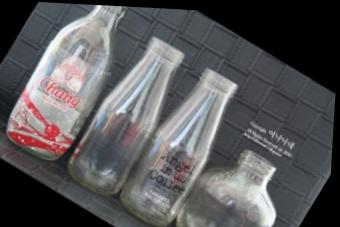glass: (0, 2, 125, 165), (120, 68, 237, 225), (69, 37, 183, 194), (176, 150, 275, 226)
